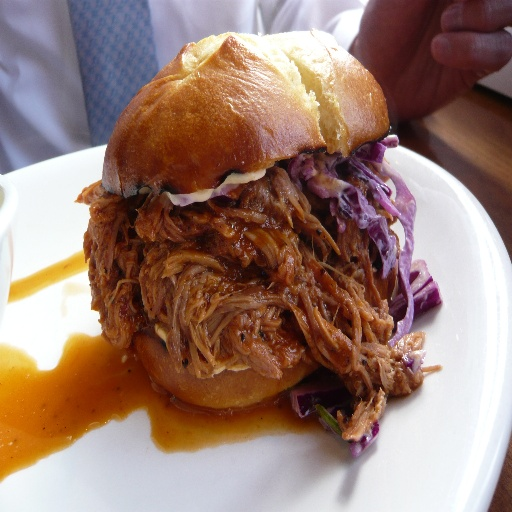hand: (387, 0, 509, 125)
